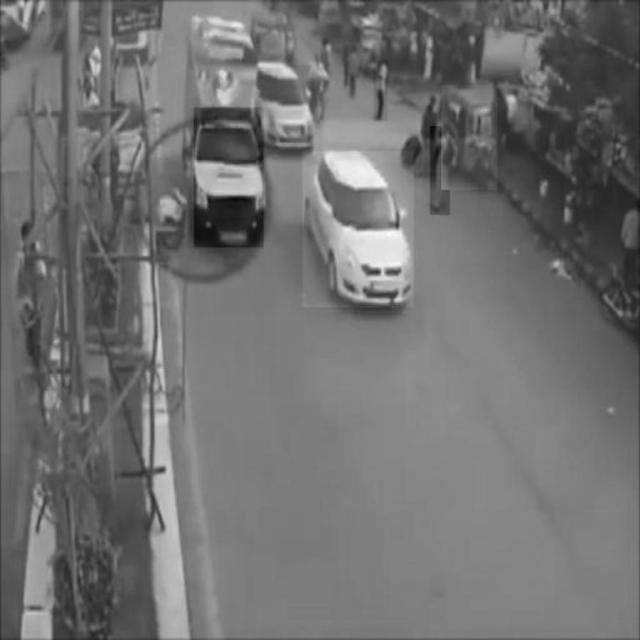person: (431, 127, 451, 215), (374, 60, 388, 121)
vehicle: (303, 152, 414, 308), (194, 108, 264, 248), (442, 85, 498, 189), (259, 65, 314, 148)
